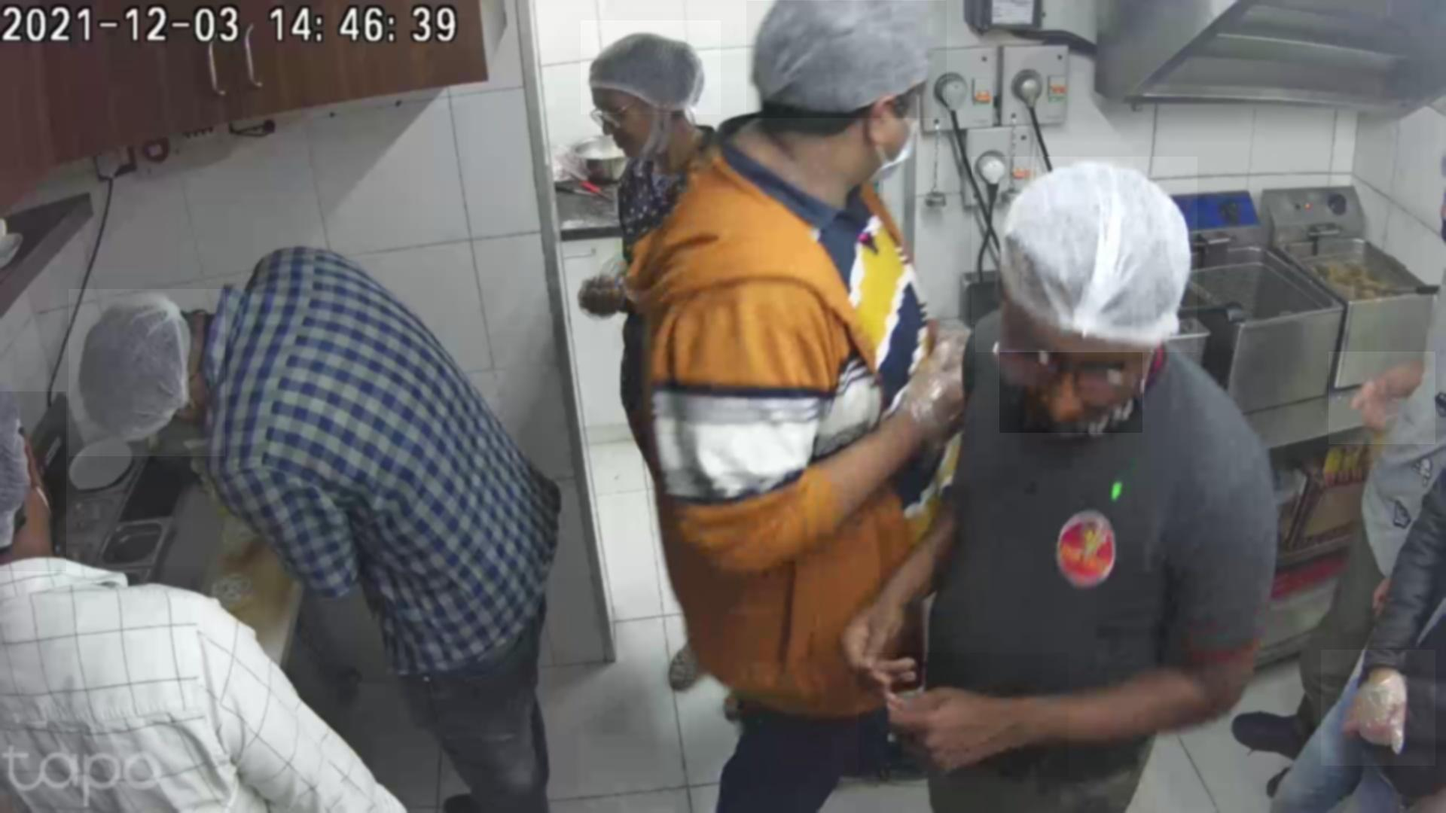apron: (867, 325, 975, 451), (1321, 650, 1436, 766)
gloves: (972, 157, 1198, 352), (69, 289, 225, 457), (746, 1, 947, 118), (581, 21, 721, 115), (0, 392, 66, 572)
no_apron: (859, 653, 1069, 778), (829, 583, 930, 687), (1329, 352, 1436, 445)
no_hairnet: (1000, 290, 1143, 433), (597, 86, 665, 170)
